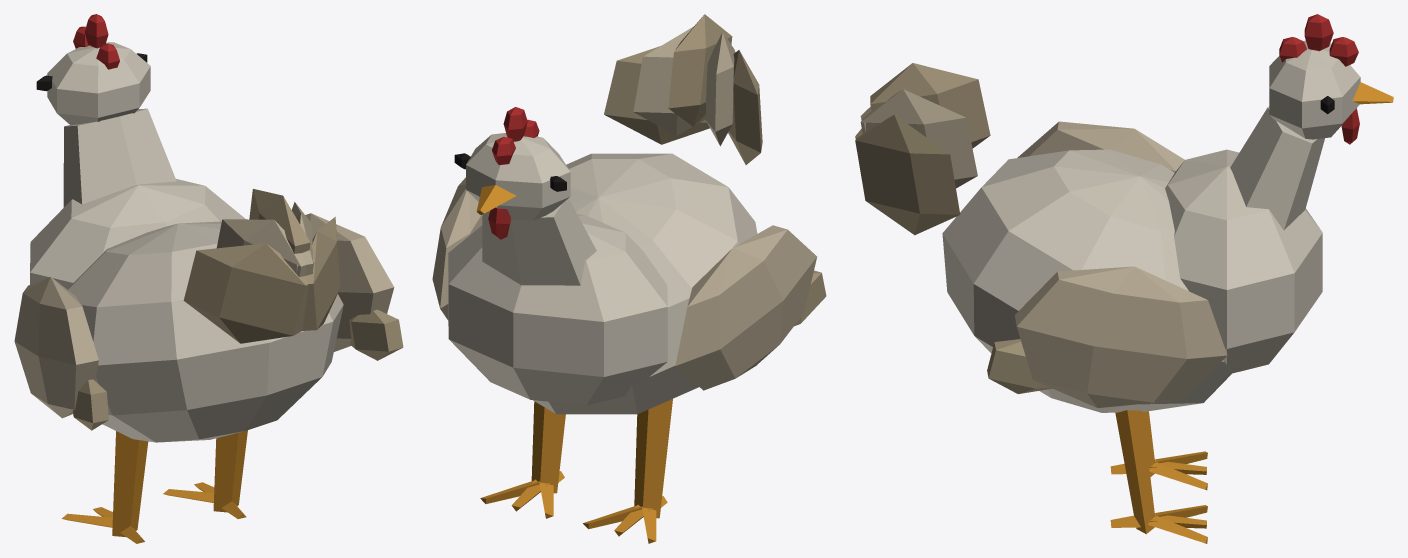
Rendered from animal_chicken.glb.
3 renders of one model, left to right at view 1: azimuth 30°, elevation 25°; view 2: azimuth 150°, elevation 25°; view 3: azimuth 270°, elevation 25°, orthographic. The views are drawn at different scales.
Parts seen in each view (by area): view 1: Chicken; view 2: Chicken; view 3: Chicken.
Boxes of the visible parts, <box> form: Chicken: <box>14,14,403,543</box>; Chicken: <box>432,14,826,543</box>; Chicken: <box>855,14,1393,543</box>.
Bounding box in the file's own units: 0.3 × 0.4 × 0.4.
